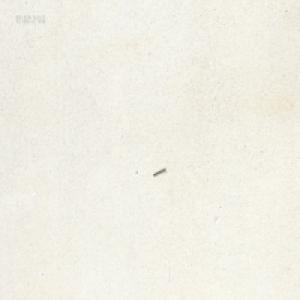Bolt: (152, 165, 165, 176)
